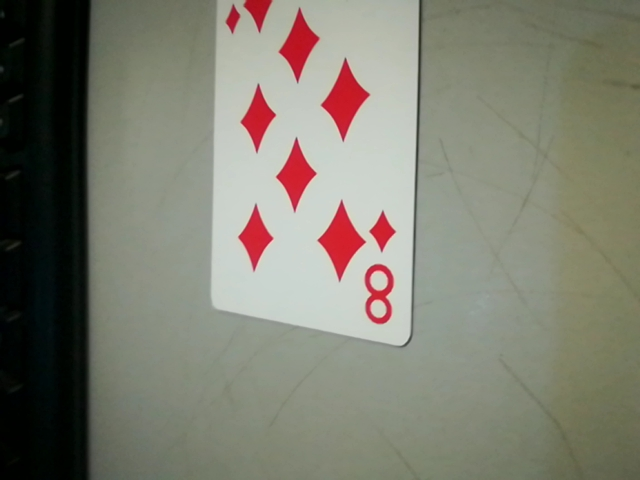fk 8: (356, 204, 410, 339)
